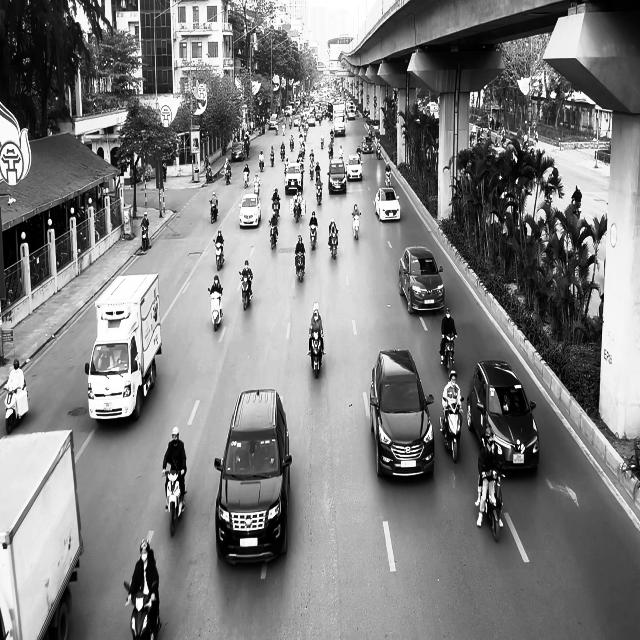car: (214, 388, 292, 566), (369, 348, 435, 478), (466, 358, 540, 472), (398, 245, 445, 314), (374, 186, 401, 222), (239, 193, 261, 228), (327, 158, 347, 194), (284, 162, 304, 195), (346, 154, 362, 181), (231, 141, 245, 161)
motorbike: (124, 580, 161, 640), (478, 468, 504, 542), (439, 397, 464, 463), (163, 469, 186, 536), (3, 382, 29, 434), (309, 330, 323, 379), (208, 286, 223, 331), (238, 270, 252, 311), (442, 334, 456, 374), (213, 240, 225, 270), (294, 250, 305, 282), (328, 231, 338, 260), (269, 221, 278, 250), (141, 224, 150, 252), (351, 213, 360, 239), (209, 199, 218, 223), (309, 225, 317, 250), (315, 180, 323, 204), (243, 170, 249, 189), (385, 170, 391, 188), (225, 169, 231, 185)
truck: (0, 428, 84, 639), (85, 272, 162, 423)
